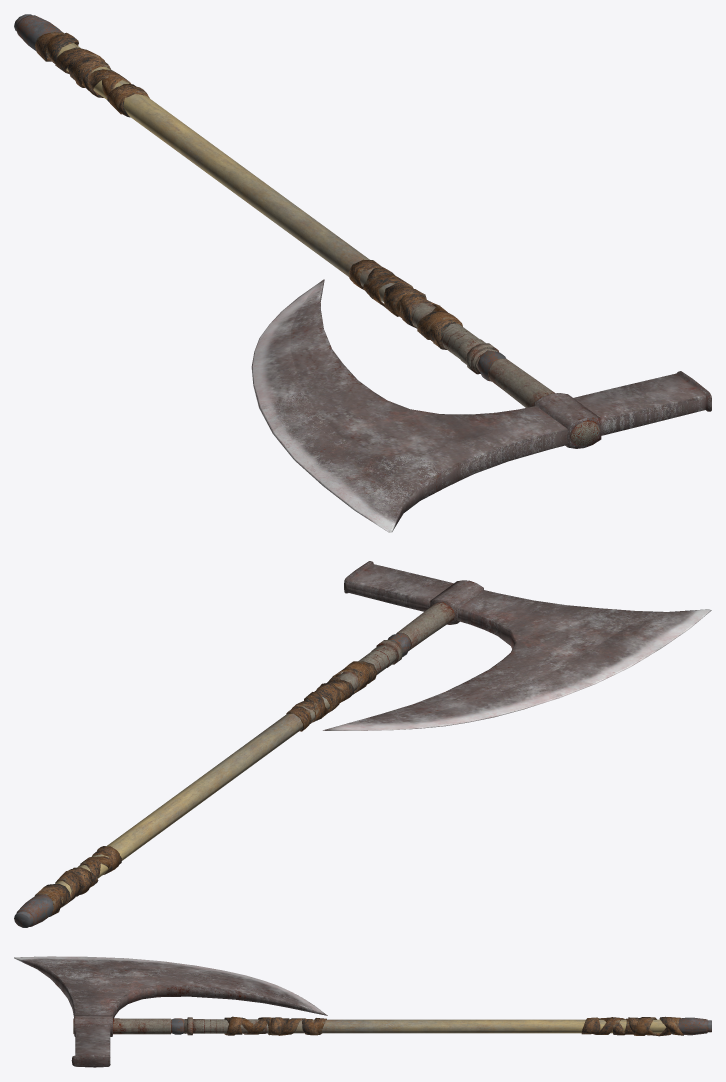
The model's file is crescentmoonaxe.fbx.
3 renders of one model, top to bottom at view 1: azimuth 30°, elevation 25°; view 2: azimuth 150°, elevation 25°; view 3: azimuth 270°, elevation 25°, orthographic. The views are drawn at different scales.
Parts seen in each view (by area): view 1: WP_A_0752, WP_A_0752.001; view 2: WP_A_0752, WP_A_0752.001; view 3: WP_A_0752, WP_A_0752.001.
Part boxes in pixels (x1,y1,x2,y2): WP_A_0752: (14, 14, 711, 532); WP_A_0752.001: (35, 32, 462, 349); WP_A_0752: (14, 561, 711, 927); WP_A_0752.001: (35, 661, 377, 916); WP_A_0752: (14, 956, 711, 1067); WP_A_0752.001: (224, 1016, 683, 1036).
Size of the model in its own units: 69.5 by 5.23 by 195.
Materials: 2 (2 with a texture image).
